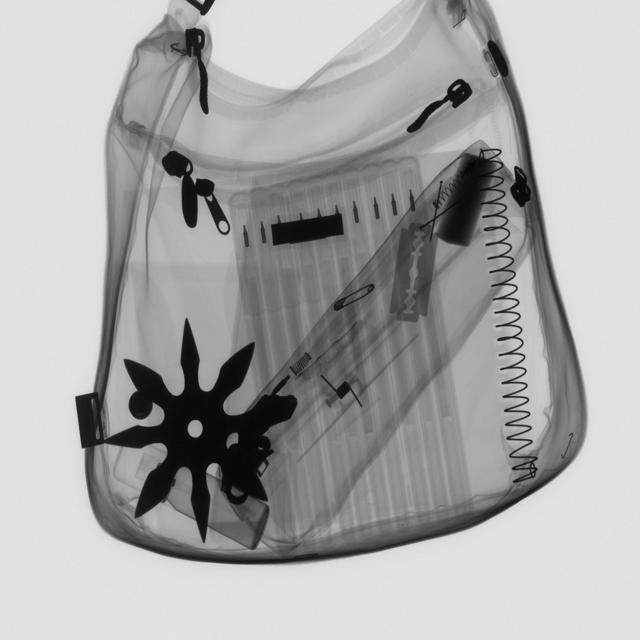razor: (380, 226, 443, 328)
shuriken: (110, 318, 300, 546)
